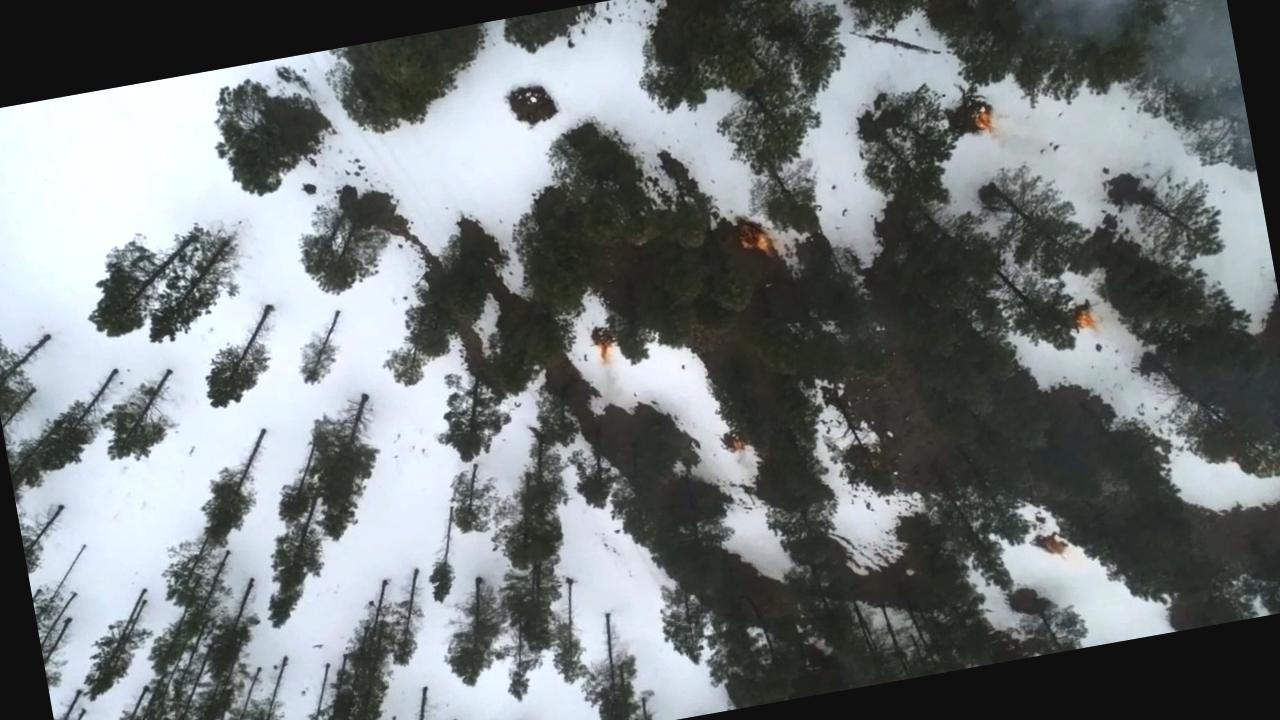fire: (729, 206, 778, 266), (968, 101, 1004, 140), (1071, 298, 1105, 335)
smoke: (965, 0, 1243, 139)
